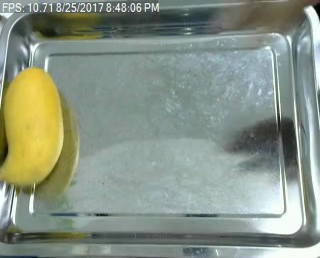Mango: (0, 63, 69, 190)
